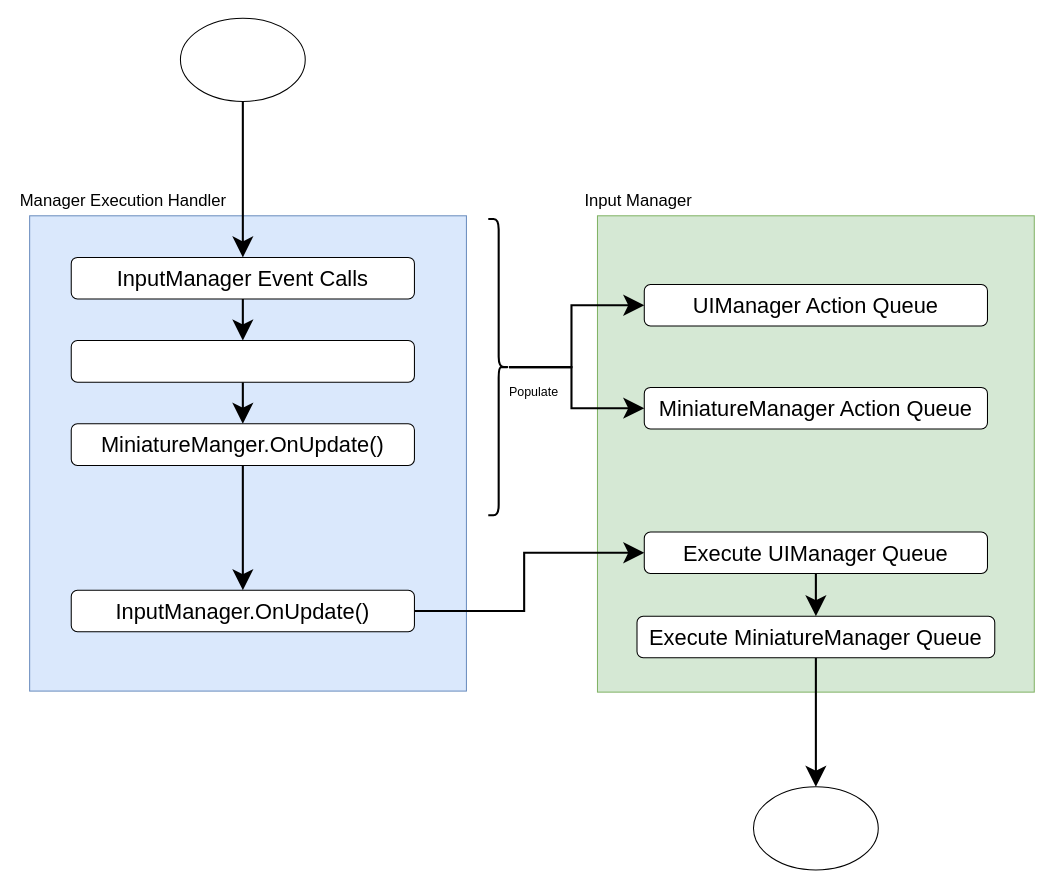
Some shapes in this 1052 by 888 pixel diagram are drawn without their labels. Each missing label, with the centre of its shape:
"End" goes at [815,828].
"Start" goes at [242,59].
"UIManager.OnUpdate()" goes at [242,361].
